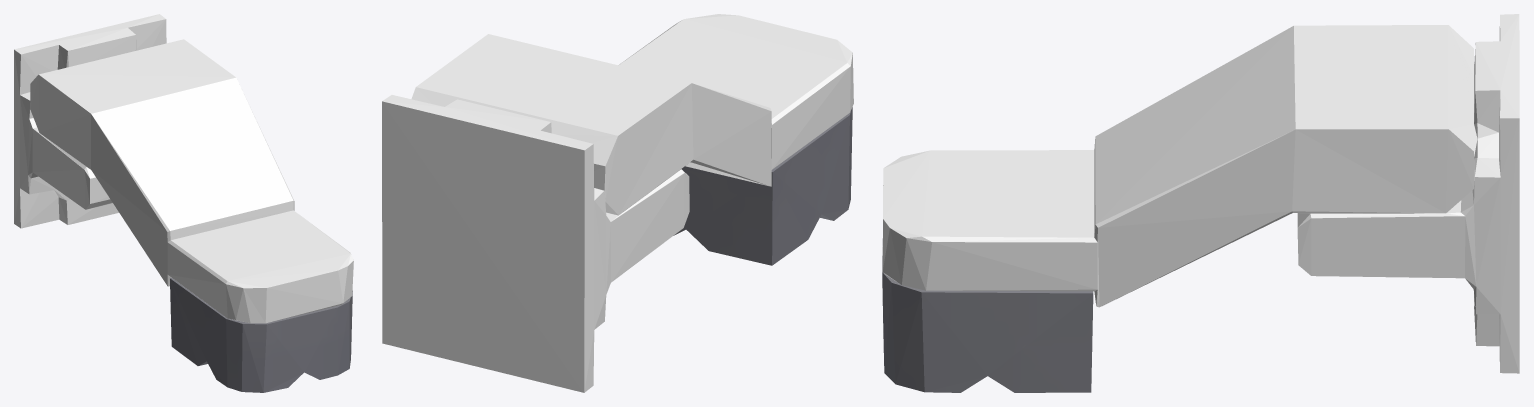
File: finger.obj
3 renders of one model, left to right at view 1: azimuth 30°, elevation 25°; view 2: azimuth 150°, elevation 25°; view 3: azimuth 270°, elevation 25°, orthographic. The views are drawn at different scales.
Parts seen in each view (by area): view 1: node1_Part__Feature001.001, node0_Part__Feature.008; view 2: node1_Part__Feature001.001, node0_Part__Feature.008; view 3: node1_Part__Feature001.001, node0_Part__Feature.008.
Part boxes in pixels (x1,y1,x2,y2): node1_Part__Feature001.001: (14, 14, 353, 323); node0_Part__Feature.008: (170, 278, 352, 392); node1_Part__Feature001.001: (382, 14, 853, 392); node0_Part__Feature.008: (673, 107, 852, 265); node1_Part__Feature001.001: (882, 14, 1519, 373); node0_Part__Feature.008: (882, 238, 1093, 392).
Size of the model in its own units: 0.021 by 0.0264 by 0.0538.
2 materials, 2 textured.
